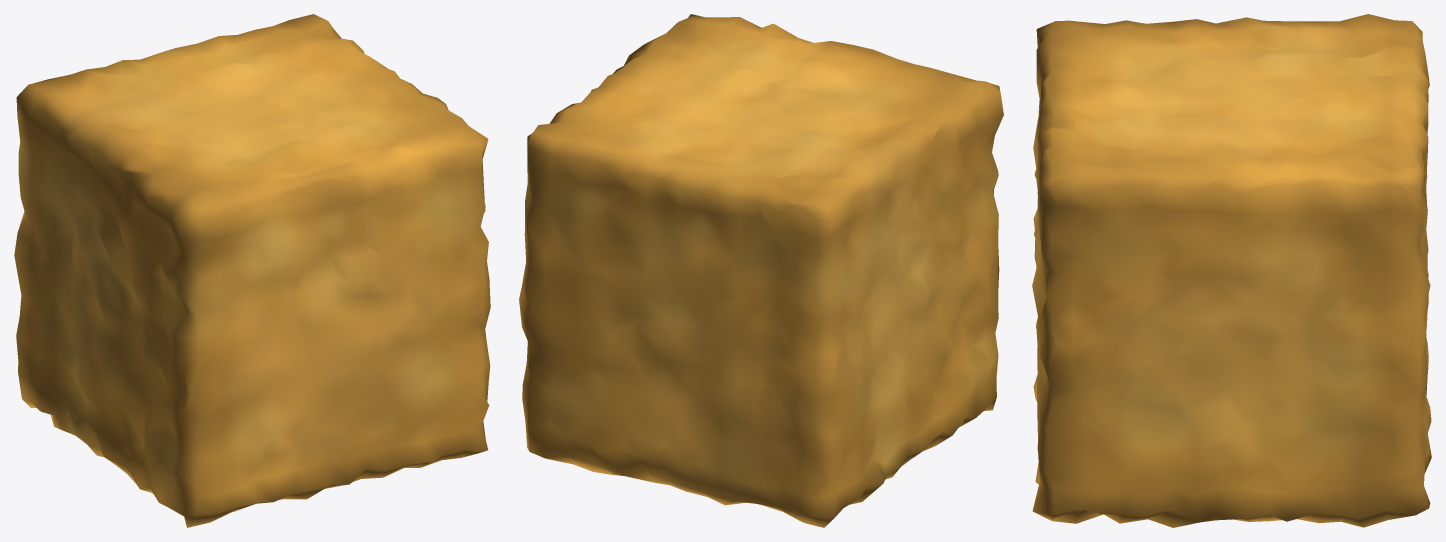
The model's file is hay.glb.
The picture shows the model from 3 angles, left to right: view 1: azimuth 30°, elevation 25°; view 2: azimuth 150°, elevation 25°; view 3: azimuth 270°, elevation 25°; orthographic projection. The views are drawn at different scales.
Parts seen in each view (by area): view 1: Cube; view 2: Cube; view 3: Cube.
Boxes of the visible parts, x1,y1,x2,y2 form: Cube: (14, 14, 490, 527); Cube: (519, 14, 1003, 527); Cube: (1032, 14, 1431, 527).
Bounding box in the file's own units: 2.08 × 2.08 × 2.09.
Materials: 1 (1 with a texture image).
